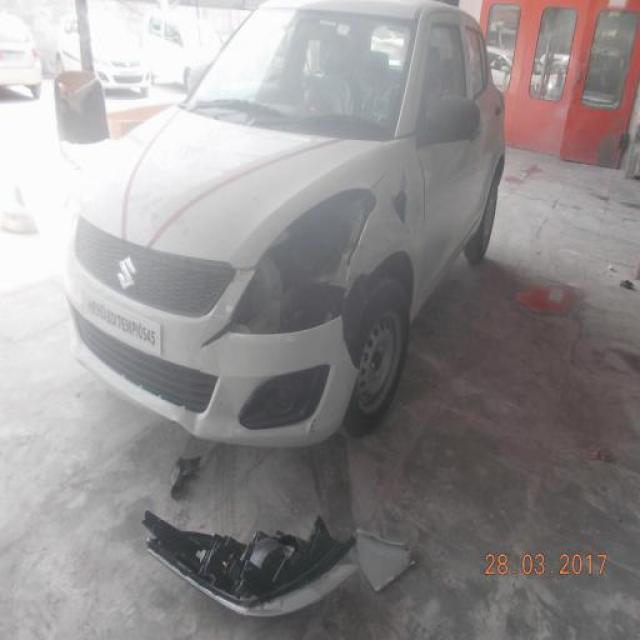Car-Damage: (229, 191, 377, 340), (239, 366, 330, 433), (339, 273, 373, 374), (196, 320, 238, 352), (393, 177, 410, 224)
